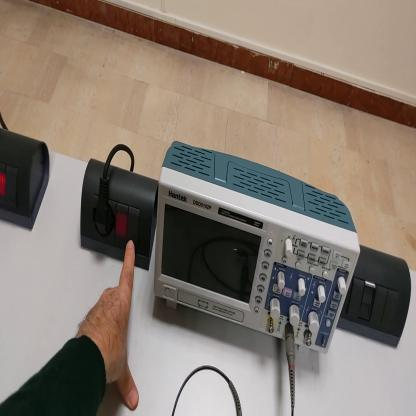hand: (78, 240, 140, 416)
oscilloscope: (155, 137, 363, 357)
socket: (82, 157, 161, 272), (2, 127, 52, 230)
